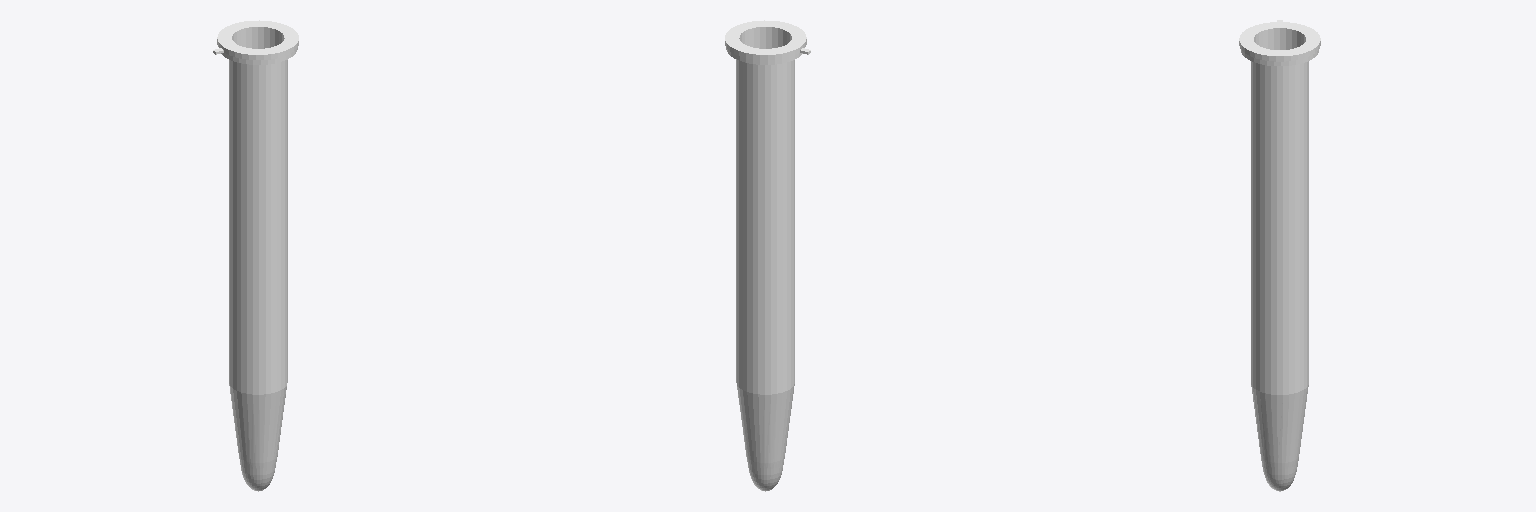
robot.urdf — Shiguan_urdf:
<?xml version="1.0" encoding="utf-8"?>
<!-- This URDF was automatically created by SolidWorks to URDF Exporter! Originally created by [author] ([email redacted]) 
     Commit Version: 1.6.0-4-g7f85cfe  Build Version: 1.6.7995.38578
     For more information, please see http://wiki.ros.org/sw_urdf_exporter -->
<robot
  name="Shiguan_urdf">
  <link
    name="base_link">
    <inertial>
      <origin
        xyz="-5.12268227360283E-06 1.26069498249115E-06 0.0275021843761458"
        rpy="0 0 0" />
      <mass
        value="0.00127697492555873" />
      <inertia
        ixx="7.93890593409025E-07"
        ixy="-1.03869538991664E-14"
        ixz="2.3983340963444E-10"
        iyy="7.93952656094125E-07"
        iyz="-5.88790284382429E-11"
        izz="2.82827630375942E-08" />
    </inertial>
    <visual>
      <origin
        xyz="0 0 0"
        rpy="0 0 0" />
      <geometry>
        <mesh
          filename="package://Shiguan_urdf/meshes/base_link.STL" />
      </geometry>
      <material
        name="">
        <color
          rgba="1 1 1 1" />
      </material>
    </visual>
    <collision>
      <origin
        xyz="0 0 0"
        rpy="0 0 0" />
      <geometry>
        <mesh
          filename="package://Shiguan_urdf/meshes/base_link.STL" />
      </geometry>
    </collision>
  </link>
</robot>

--- Render facts (derived) ---
3 views of the same robot in one strip: view 1: azimuth 30°, elevation 25°; view 2: azimuth 150°, elevation 25°; view 3: azimuth 270°, elevation 25° (orthographic).
Robot: Shiguan_urdf — 1 links, 0 joints (none); root link base_link; default pose: every joint at zero.
Visible links, largest first — view 1: base_link; view 2: base_link; view 3: base_link.
Link boxes in pixels (bbox=[...]): base_link: bbox=[213, 20, 298, 491]; base_link: bbox=[725, 20, 810, 491]; base_link: bbox=[1239, 20, 1320, 491].
Bounding box of the posed robot: 0.0156 × 0.014 × 0.0855 m (x, y, z).
Meshes: 1 distinct files referenced, 1 mesh visuals loaded (1 binary STL).
